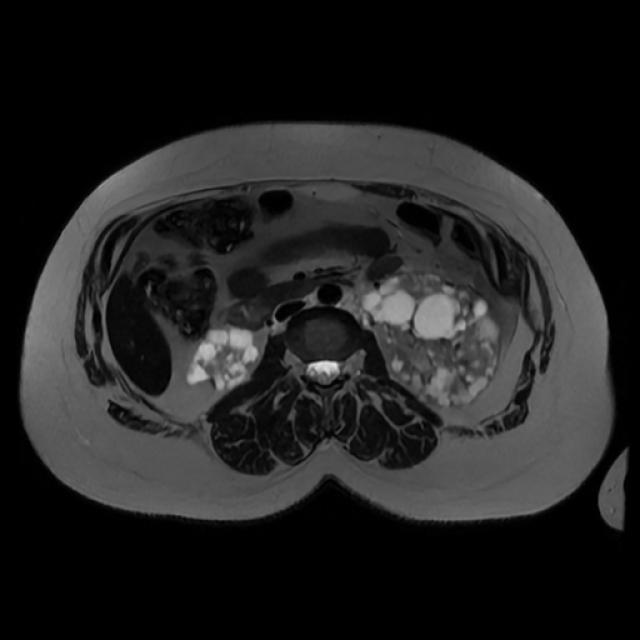sag: (189, 323, 261, 389)
sol: (365, 266, 502, 407)
